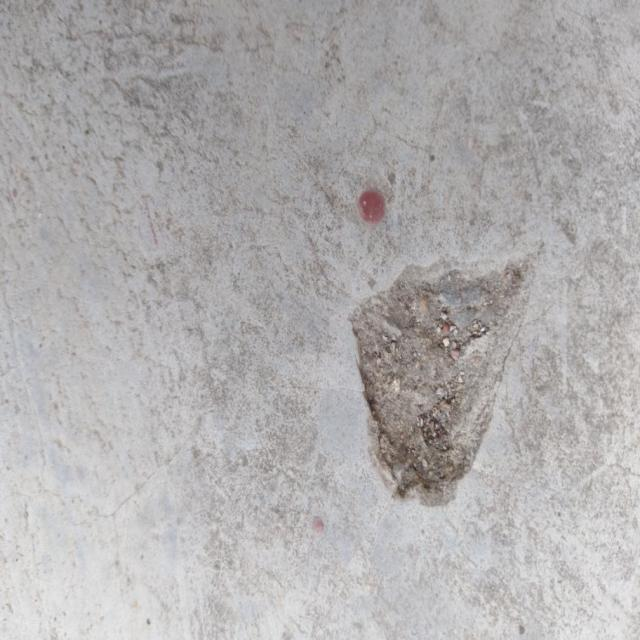concrete spalling: (348, 253, 534, 512)
multi-branched crack: (1, 287, 216, 583), (351, 87, 443, 161)
